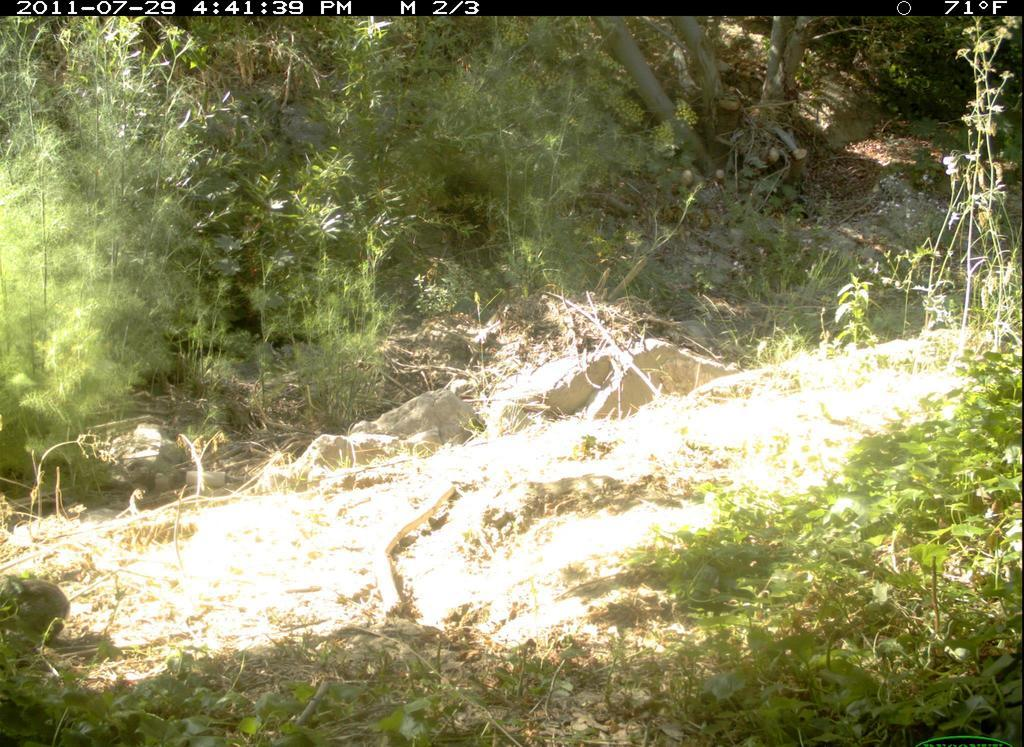rabbit: (3, 578, 83, 656)
